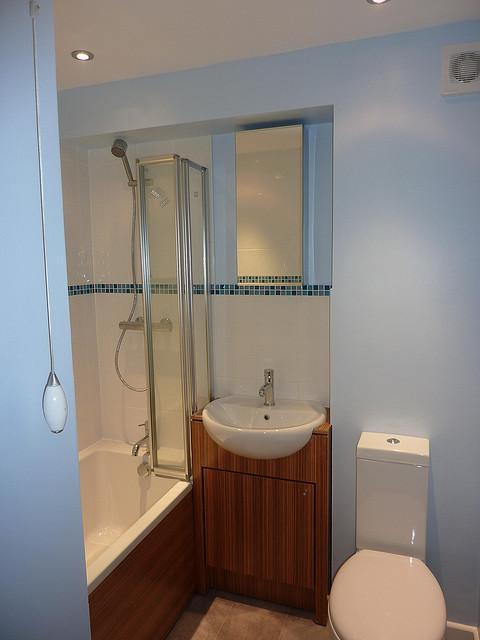Ducha: (78, 136, 196, 446)
Lavamanos: (203, 362, 331, 456)
Sanitario: (317, 419, 469, 635)
